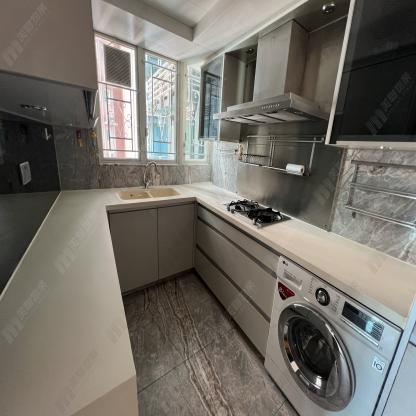Exhaust Fan: (105, 42, 132, 88)
Exhaust Hood: (213, 92, 330, 128)
Faucet: (138, 158, 160, 188)
Sink: (110, 185, 193, 205)
Stove: (207, 196, 303, 239)
Washing Machine: (264, 256, 404, 416)
